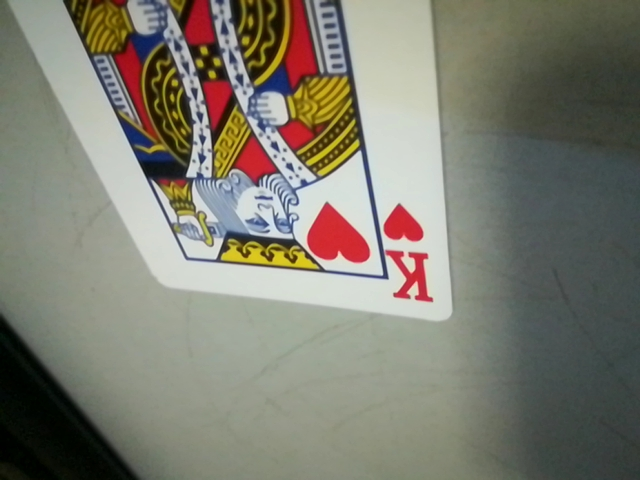hx k: (374, 198, 446, 312)
